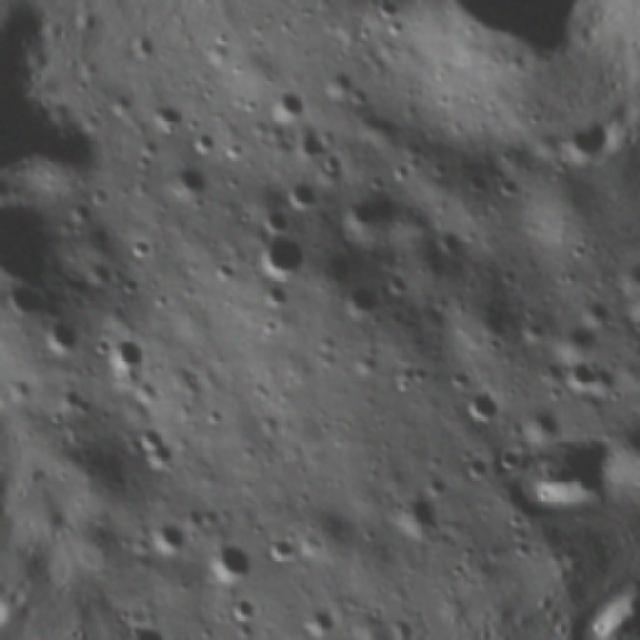crater: (0, 74, 115, 228), (425, 0, 558, 88), (520, 426, 628, 520), (0, 181, 62, 288), (247, 219, 315, 283), (195, 534, 258, 594), (2, 270, 58, 327), (330, 275, 384, 328), (132, 420, 180, 475), (396, 491, 444, 546), (140, 94, 192, 140), (276, 170, 324, 219), (164, 160, 211, 208), (261, 84, 310, 128), (554, 117, 598, 165), (460, 388, 509, 429), (38, 313, 80, 359), (111, 328, 152, 375), (294, 601, 343, 640), (252, 274, 296, 317), (218, 588, 264, 629), (122, 228, 164, 268), (148, 515, 187, 556), (563, 355, 605, 393), (455, 448, 493, 487), (257, 199, 294, 239), (490, 440, 530, 477), (182, 126, 223, 162), (289, 126, 329, 162), (314, 146, 348, 183), (432, 219, 466, 255), (119, 617, 172, 640), (206, 255, 240, 290), (420, 467, 454, 499), (494, 170, 526, 201), (379, 13, 408, 42), (365, 0, 400, 23), (194, 629, 254, 640), (0, 285, 8, 343), (629, 285, 640, 323), (637, 323, 640, 369)
